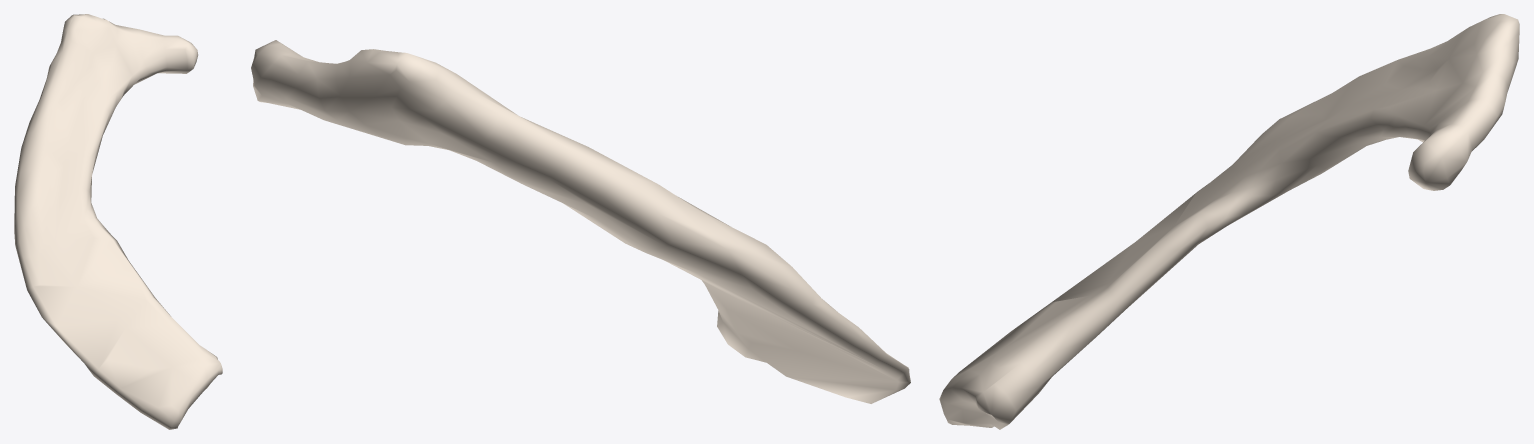
Rendered from right_rib_1.glb.
The picture shows the model from 3 angles, left to right: view 1: azimuth 30°, elevation 25°; view 2: azimuth 150°, elevation 25°; view 3: azimuth 270°, elevation 25°; orthographic projection. The views are drawn at different scales.
Parts seen in each view (by area): view 1: Rib (1st).r; view 2: Rib (1st).r; view 3: Rib (1st).r.
Boxes of the visible parts, bbox=[...] form: Rib (1st).r: bbox=[14, 14, 222, 429]; Rib (1st).r: bbox=[251, 40, 910, 403]; Rib (1st).r: bbox=[939, 14, 1519, 429].
Bounding box in the file's own units: 0.0522 × 0.0585 × 0.0663.
